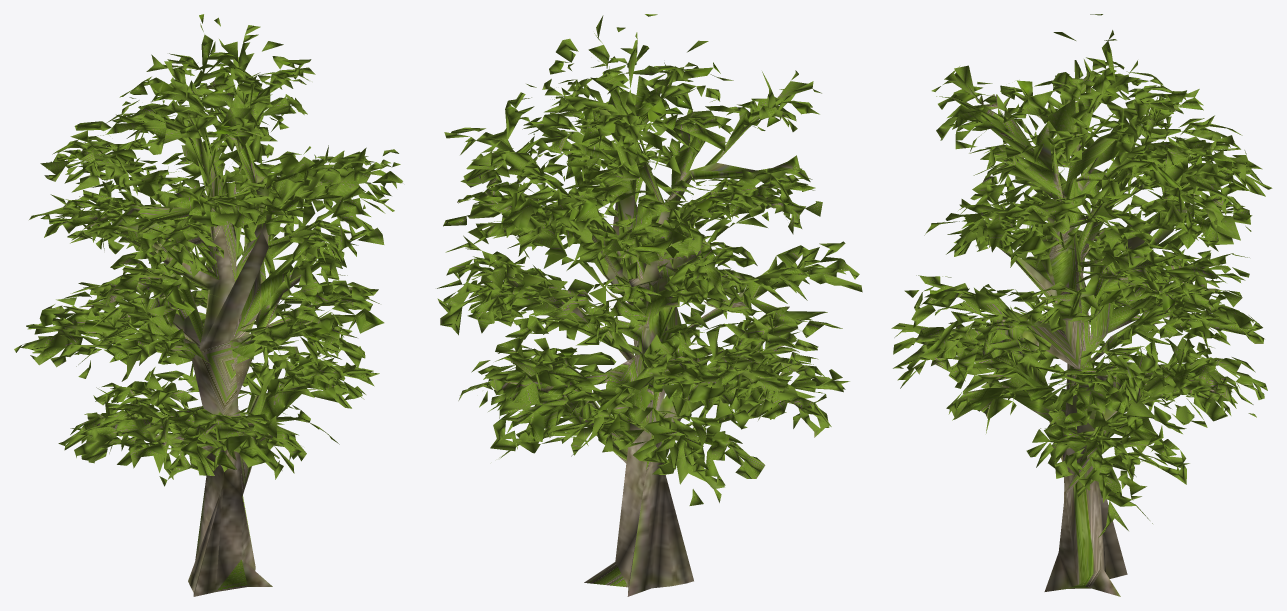
The model's file is verdant-tree.glb.
3 views of the same model, side by side, from view 1: azimuth 30°, elevation 25°; view 2: azimuth 150°, elevation 25°; view 3: azimuth 270°, elevation 25° (orthographic). The views are drawn at different scales.
Bounding box in the file's own units: 1.19 × 1.85 × 1.14.
Materials: 1 (1 with a texture image).
